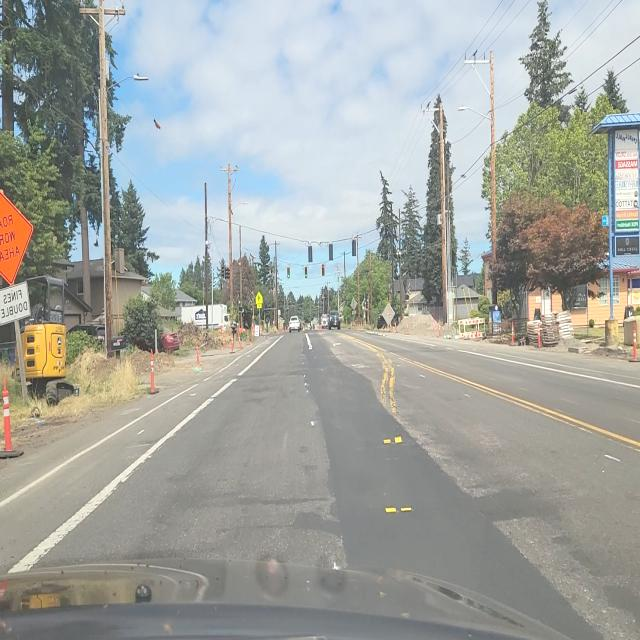car: (329, 310, 341, 330), (288, 316, 301, 332)
crosswalk-sign: (255, 292, 263, 309)
delineator: (2, 376, 14, 452), (149, 349, 156, 396), (192, 344, 202, 373), (632, 322, 638, 361), (220, 326, 226, 350), (230, 327, 235, 352), (238, 327, 243, 349), (537, 321, 541, 348), (511, 320, 515, 346), (248, 323, 253, 341), (246, 325, 250, 344), (438, 320, 442, 337), (406, 321, 410, 334), (394, 320, 398, 332), (474, 328, 478, 339), (433, 321, 436, 332)
